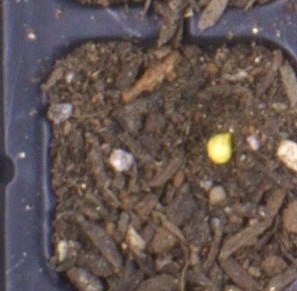chilli seed: (206, 131, 233, 164)
